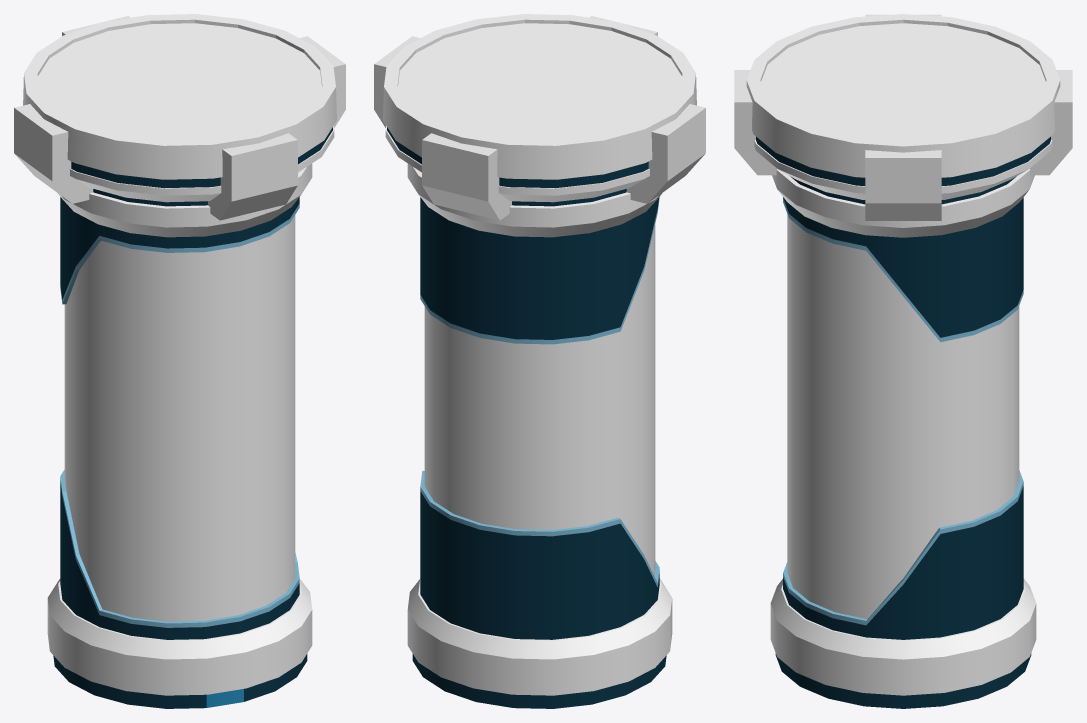
The model's file is Props_Pod.007.fbx.
3 renders of one model, left to right at view 1: azimuth 30°, elevation 25°; view 2: azimuth 150°, elevation 25°; view 3: azimuth 270°, elevation 25°, orthographic.
Visible parts, largest first — view 1: Props_Pod.007; view 2: Props_Pod.007; view 3: Props_Pod.007.
Boxes of the visible parts, left/top/right/bottom form: Props_Pod.007: left=14, top=14, right=345, bottom=708; Props_Pod.007: left=374, top=14, right=705, bottom=708; Props_Pod.007: left=734, top=14, right=1072, bottom=708.
Size of the model in its own units: 1.81 by 3.39 by 1.81.
